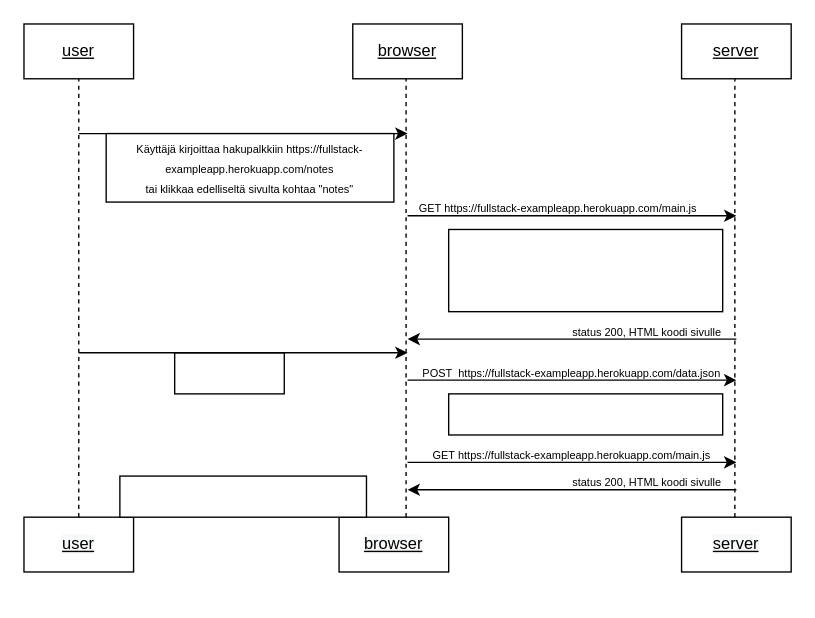
Image size: 815x618. Some labels were removed from this diagram. The centre of each missing label's shape, as x and y in pixels:
"Generoi HTML koodin , jossa on kaikki notes, -listassa olevat objektit." goes at (x=585, y=270).
"Lisää .json -tiedostoon käyttäjän lisäämän muistiinpanon ja päivittää sivun" goes at (x=585, y=414).
"Lisää muiistiinpanon sivulle" goes at (x=228, y=372).
"Selain näytttää HTML sivun, jonka serveri palauttaa (sisältää päivitetyn .json)" goes at (x=242, y=496).
